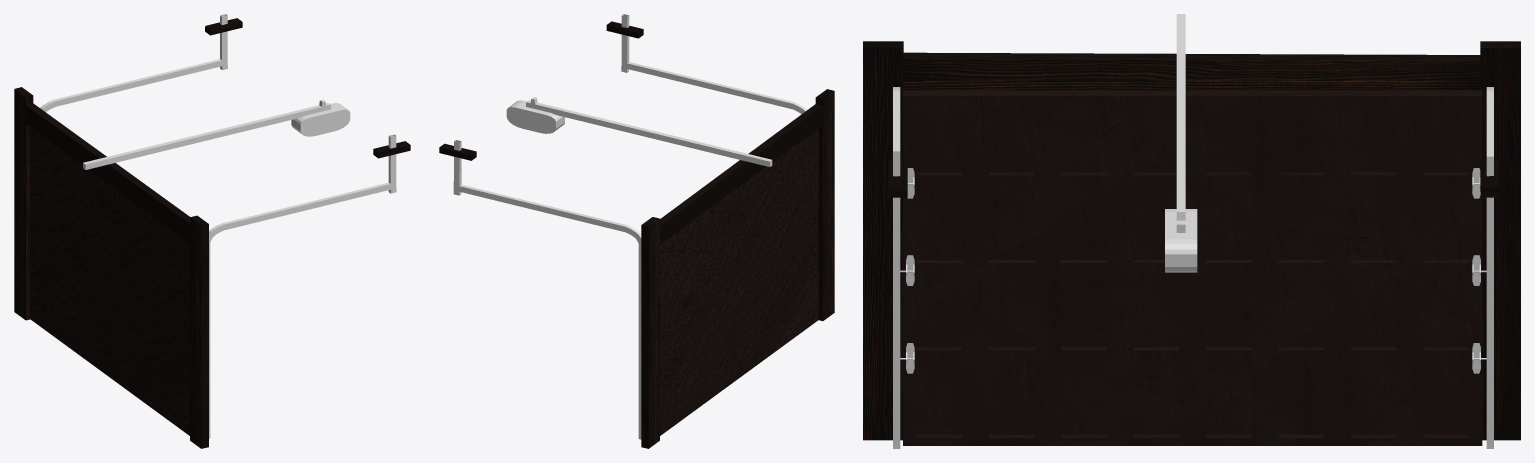
File: garagedoor.fbx
3 renders of one model, left to right at view 1: azimuth 30°, elevation 25°; view 2: azimuth 150°, elevation 25°; view 3: azimuth 270°, elevation 25°, orthographic. The views are drawn at different scales.
Parts seen in each view (by area): view 1: door, frame, metal.002, lamp_metal, lamp, wood; view 2: door, frame, metal.002, lamp_metal, lamp, wood; view 3: door, frame, metal.002, lamp_metal, screws, lamp, wood.
Boxes of the visible parts, x1,y1,x2,y2 form: door: [30, 127, 189, 435]; frame: [14, 87, 208, 448]; metal.002: [40, 14, 396, 438]; lamp_metal: [83, 99, 330, 169]; lamp: [291, 103, 350, 136]; wood: [205, 18, 410, 158]; door: [660, 129, 818, 435]; frame: [641, 89, 834, 448]; metal.002: [453, 14, 807, 439]; lamp_metal: [526, 97, 772, 166]; lamp: [506, 100, 564, 133]; wood: [439, 21, 643, 160]; door: [903, 90, 1482, 445]; frame: [863, 41, 1520, 440]; metal.002: [893, 87, 1493, 448]; lamp_metal: [1176, 14, 1185, 232]; screws: [900, 168, 1486, 373]; lamp: [1165, 209, 1197, 258]; wood: [889, 159, 1498, 197].
Bounding box in the file's own units: 550 × 517 × 682.
